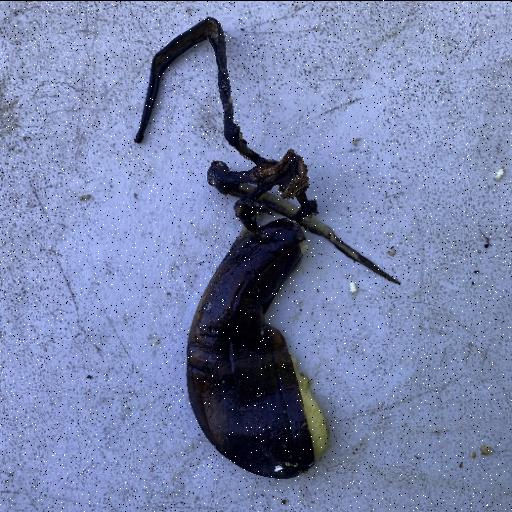Waste: (132, 16, 402, 480), (184, 215, 330, 480)
